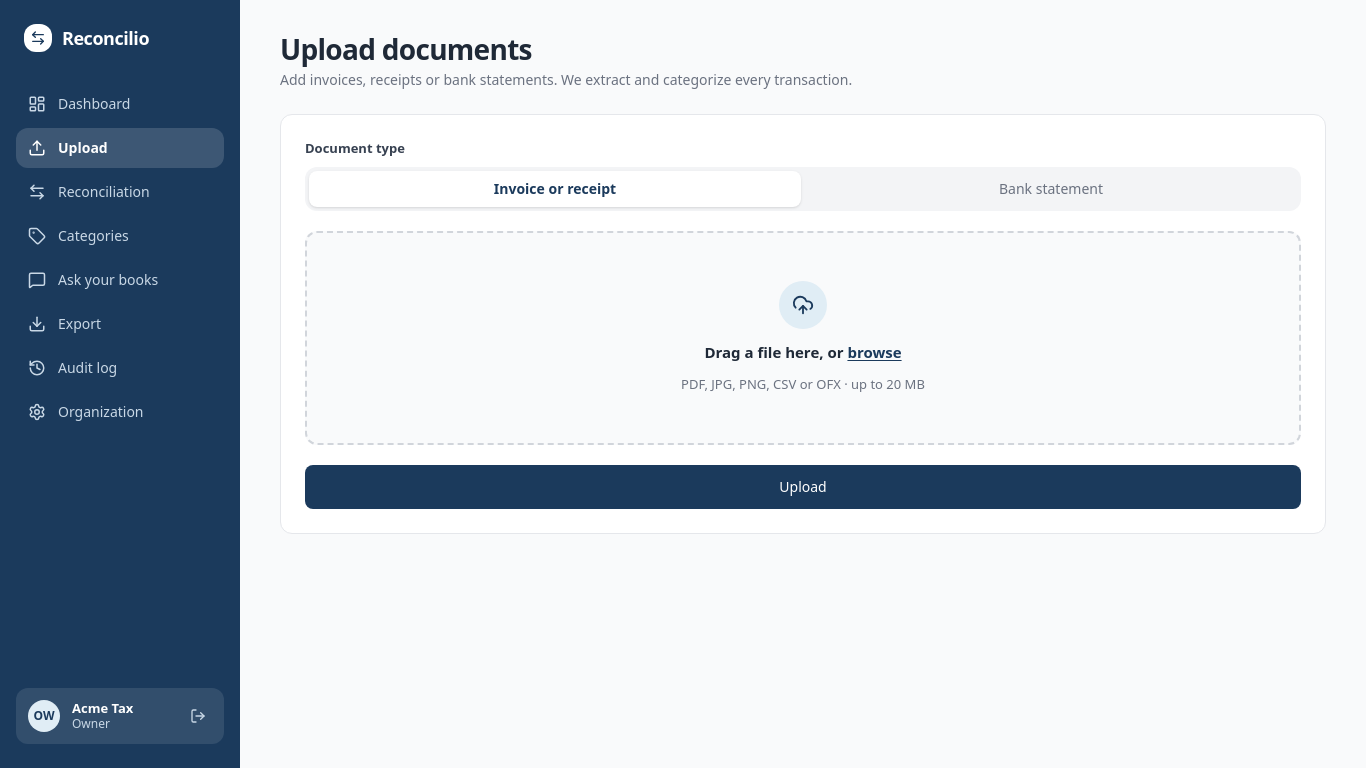
app shell › shows navigation, the org and the role for a signed-in user, and logs out
The width and height of the screenshot is (1366, 768).
Check: the navigation bar named "main" shows "Dashboard", box x1=16 y1=84 x2=224 y2=124
Check: the text "Acme Tax" is shown, box x1=72 y1=699 x2=133 y2=717
Click the button named "log out". click: [198, 716]
box: x1=184 y1=702 x2=212 y2=730
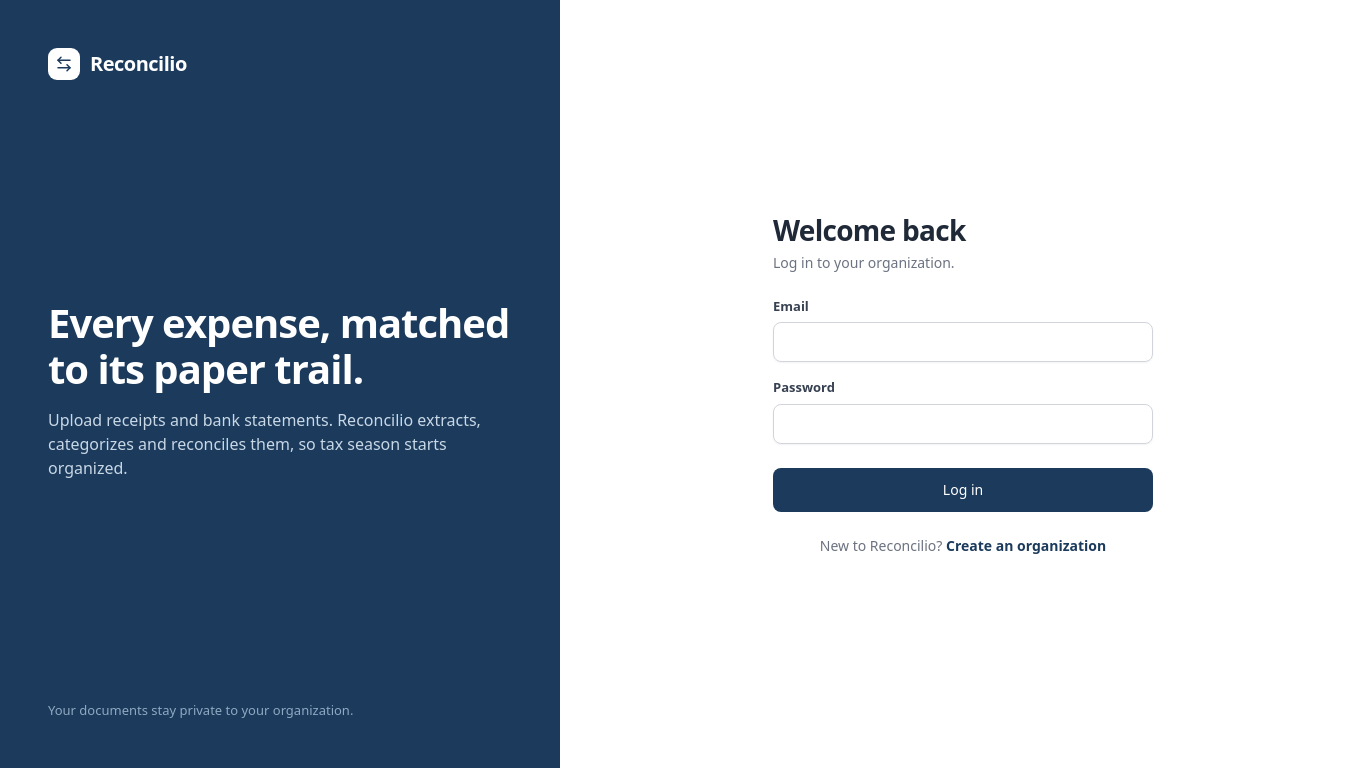
Check: the heading "Welcome back" is shown, box x1=773 y1=210 x2=966 y2=248
